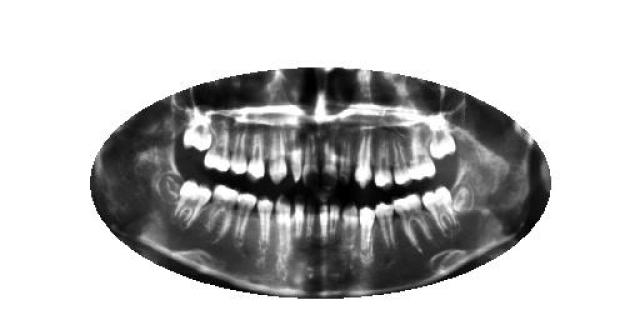Restorations: (184, 111, 212, 152), (429, 121, 456, 159), (452, 182, 476, 216)
